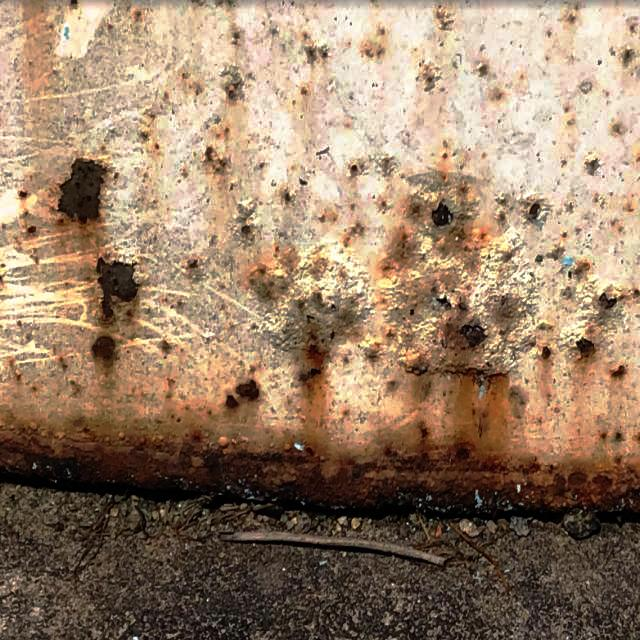Corrosion: (0, 409, 640, 525), (381, 176, 536, 376), (248, 244, 368, 352), (58, 159, 106, 222), (96, 258, 138, 318), (552, 226, 592, 282), (138, 106, 162, 157), (233, 198, 257, 246), (302, 26, 332, 64), (596, 290, 624, 324), (358, 339, 387, 371), (91, 336, 116, 370), (575, 327, 600, 360), (222, 65, 244, 100), (362, 27, 386, 58), (599, 429, 640, 444), (204, 146, 227, 172), (421, 61, 441, 90), (235, 380, 260, 402), (343, 222, 365, 246), (182, 71, 203, 94), (437, 4, 455, 30), (584, 151, 601, 178), (159, 337, 175, 363), (378, 154, 396, 176), (622, 46, 638, 70), (8, 358, 22, 382), (348, 160, 366, 178), (299, 368, 322, 382), (186, 258, 201, 277), (611, 365, 629, 380), (165, 378, 176, 400), (320, 208, 337, 222), (419, 422, 431, 440), (225, 395, 239, 410), (71, 378, 81, 396), (58, 356, 68, 372), (68, 0, 82, 11), (283, 189, 293, 204), (632, 285, 640, 303), (442, 140, 450, 158), (388, 380, 400, 392), (133, 7, 142, 21), (26, 225, 36, 236), (480, 63, 489, 74), (18, 190, 28, 198), (30, 385, 37, 394)
